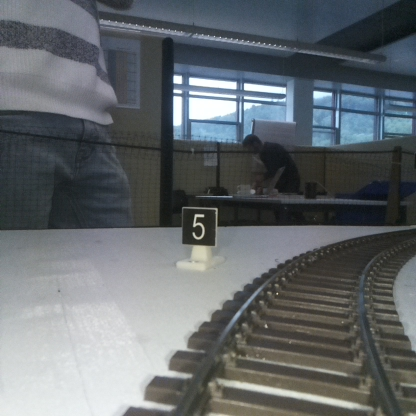black-stop-5: (182, 206, 216, 269)
